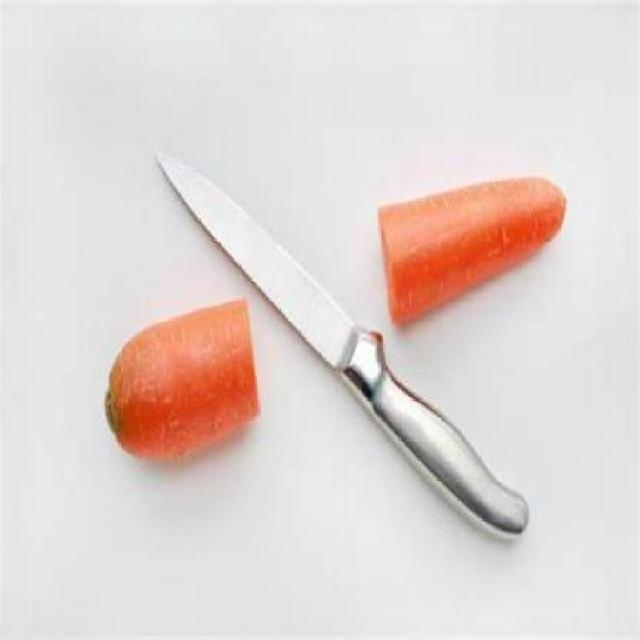carrot: (374, 174, 572, 332), (95, 294, 268, 470)
